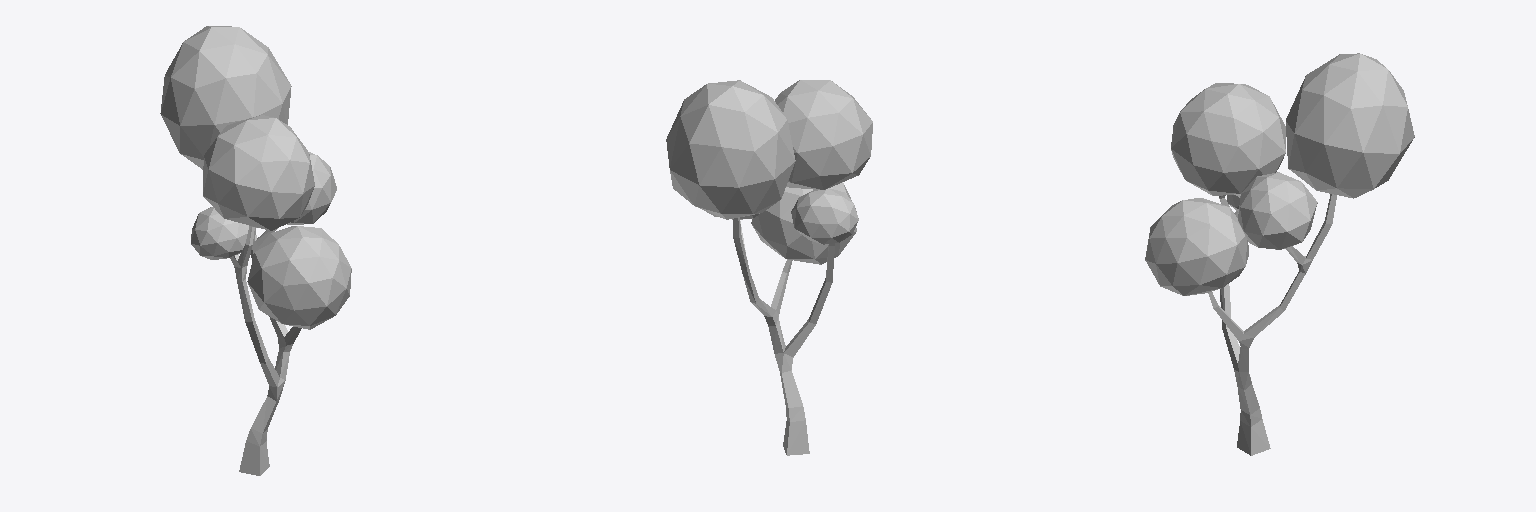
File: Tree_Oak_7.obj
3 views of the same model, side by side, from view 1: azimuth 30°, elevation 25°; view 2: azimuth 150°, elevation 25°; view 3: azimuth 270°, elevation 25° (orthographic).
Parts seen in each view (by area): view 1: Icosphere.050_Icosphere.087, Icosphere.056_Icosphere.093, Icosphere.058_Icosphere.095, Cube.085_Cube.216, Icosphere.055_Icosphere.092, Icosphere.057_Icosphere.094; view 2: Icosphere.050_Icosphere.087, Icosphere.056_Icosphere.093, Cube.085_Cube.216, Icosphere.058_Icosphere.095, Icosphere.055_Icosphere.092; view 3: Icosphere.050_Icosphere.087, Icosphere.056_Icosphere.093, Icosphere.058_Icosphere.095, Cube.085_Cube.216, Icosphere.057_Icosphere.094.
Boxes of the visible parts, x1=… form: Icosphere.050_Icosphere.087: x1=160, y1=26, x2=291, y2=169; Icosphere.056_Icosphere.093: x1=203, y1=115, x2=314, y2=230; Icosphere.058_Icosphere.095: x1=247, y1=226, x2=351, y2=329; Cube.085_Cube.216: x1=230, y1=226, x2=301, y2=475; Icosphere.055_Icosphere.092: x1=191, y1=207, x2=256, y2=259; Icosphere.057_Icosphere.094: x1=287, y1=152, x2=336, y2=224; Icosphere.050_Icosphere.087: x1=666, y1=80, x2=795, y2=219; Icosphere.056_Icosphere.093: x1=775, y1=80, x2=872, y2=189; Cube.085_Cube.216: x1=733, y1=217, x2=834, y2=455; Icosphere.058_Icosphere.095: x1=751, y1=182, x2=856, y2=264; Icosphere.055_Icosphere.092: x1=791, y1=188, x2=858, y2=244; Icosphere.050_Icosphere.087: x1=1286, y1=53, x2=1414, y2=198; Icosphere.056_Icosphere.093: x1=1171, y1=83, x2=1285, y2=195; Icosphere.058_Icosphere.095: x1=1145, y1=198, x2=1248, y2=295; Cube.085_Cube.216: x1=1208, y1=194, x2=1336, y2=455; Icosphere.057_Icosphere.094: x1=1238, y1=172, x2=1317, y2=249.
Bounding box in the file's own units: 2.95 × 7.68 × 4.69.